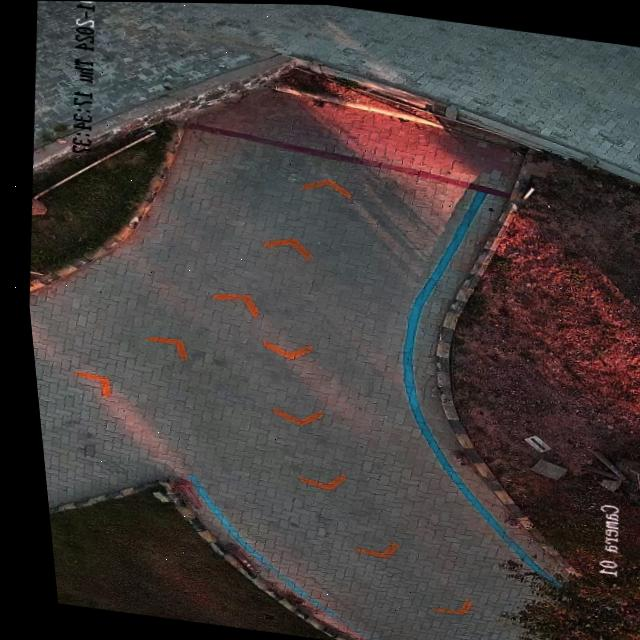No Car: (23, 0, 640, 640)
